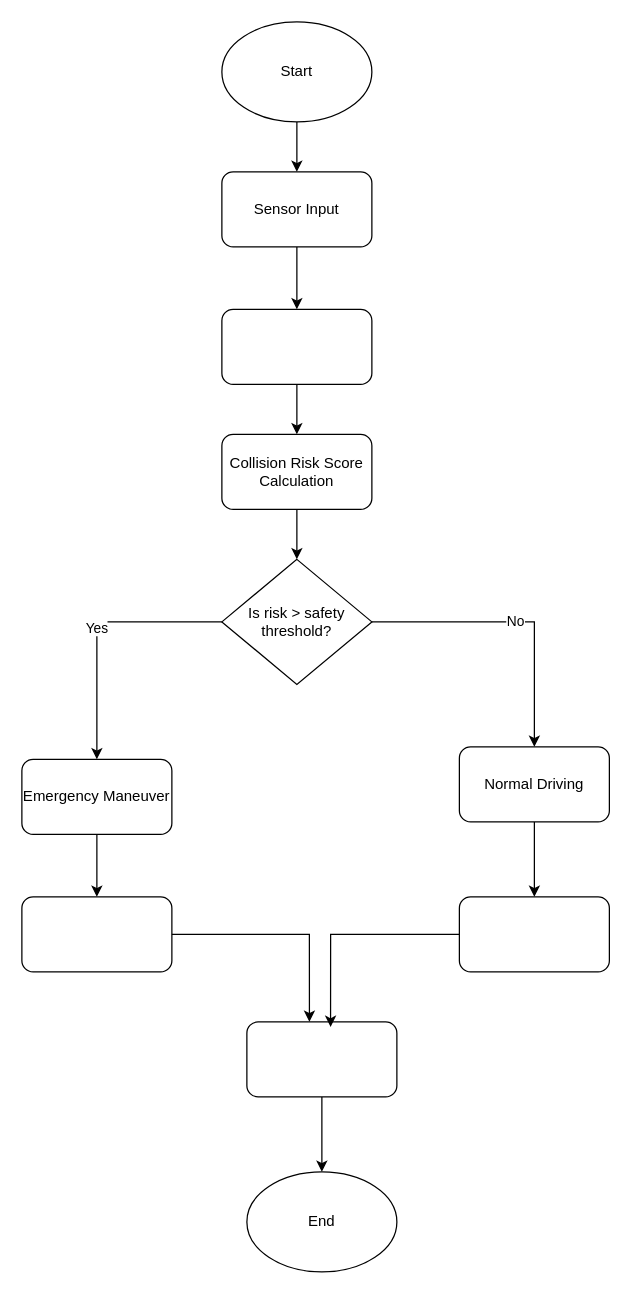
Some shapes in this 631 by 1294 pixel diagram are drawn without their labels. The shapes that lost their labels are listed below. From the top down, each one's centre as x and y in pixels, then its label:
the point at 296,346: Perception & Object Detection
the point at 96,934: Obstacle Avoidance Path
the point at 533,934: Environment Monitoring
the point at 321,1059: Driving Model Update
